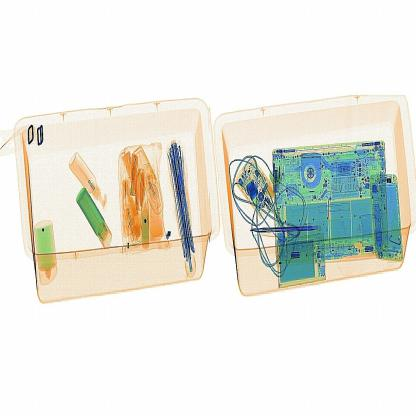pliers: (253, 222, 329, 236)
